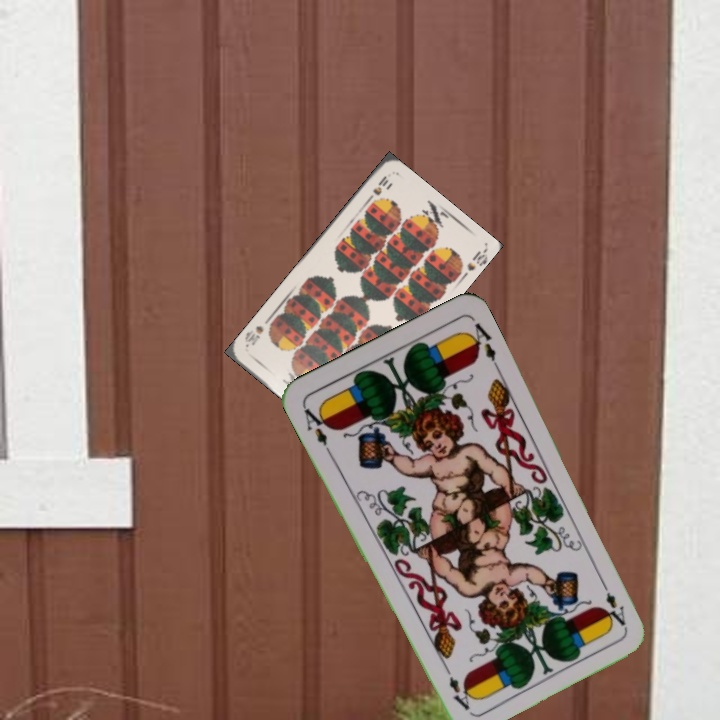EA: (299, 401, 334, 456), (601, 588, 629, 630)
S10: (362, 171, 391, 205)
